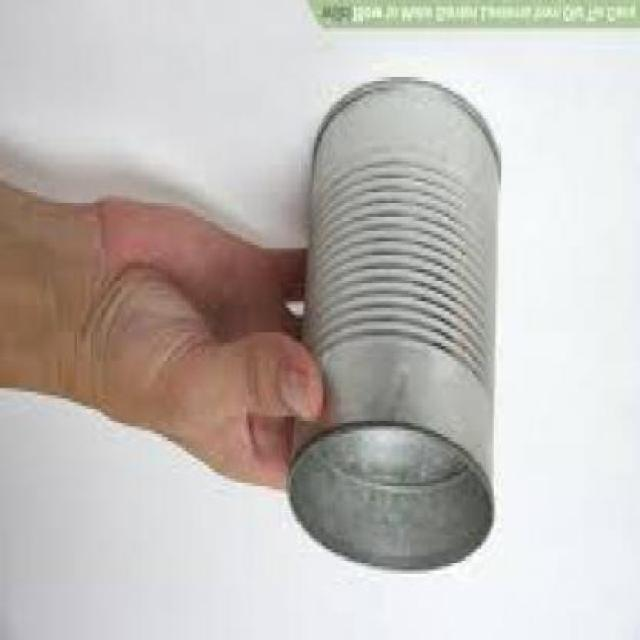METAL: (285, 80, 500, 577)
